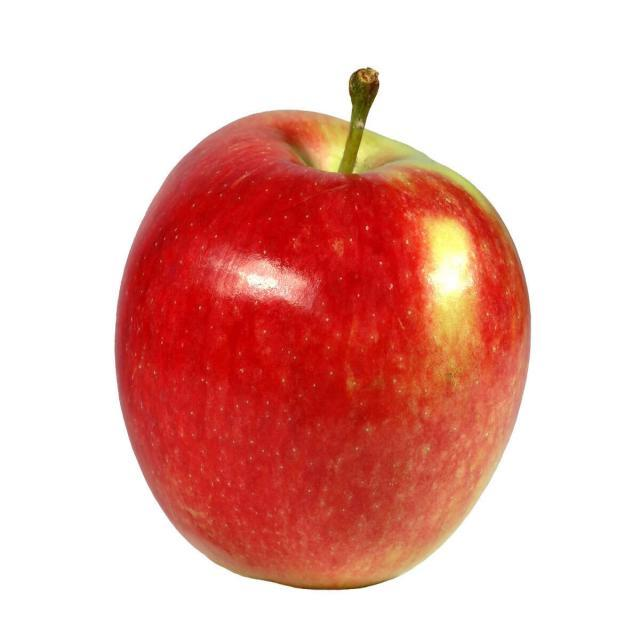Apple: (111, 64, 534, 594)
